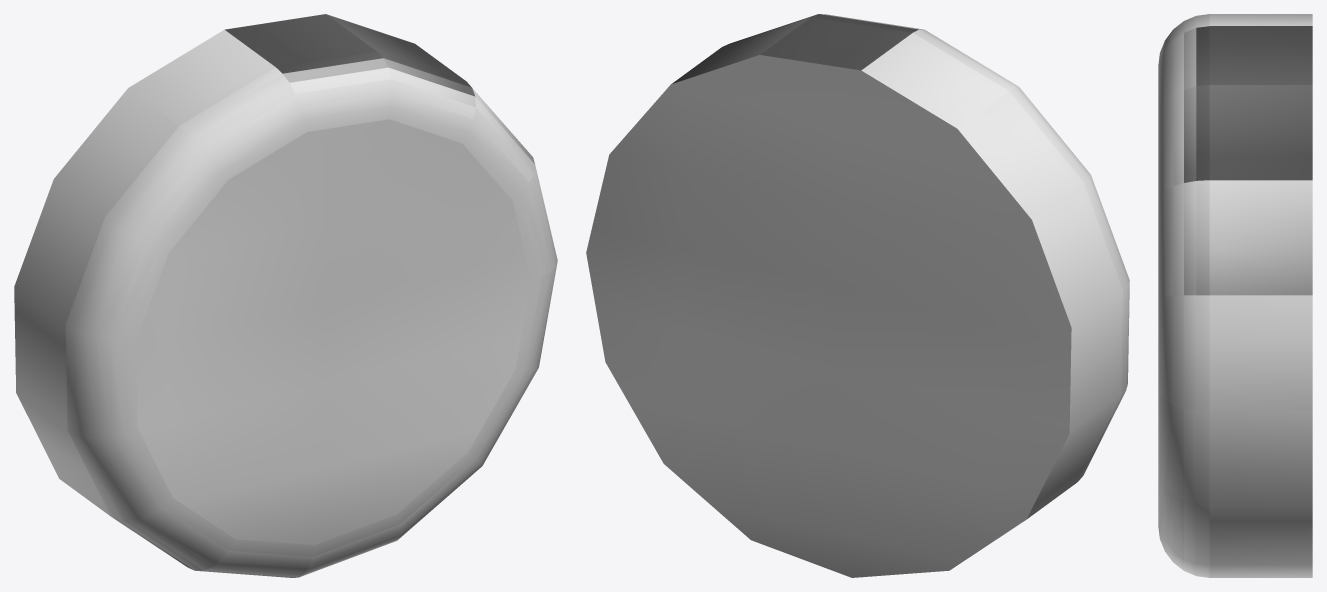
File: original-13.obj
3 views of the same model, side by side, from view 1: azimuth 30°, elevation 25°; view 2: azimuth 150°, elevation 25°; view 3: azimuth 270°, elevation 25° (orthographic).
Visible parts, largest first — view 1: mesh15/mesh15-geometry#mesh15-geometry; view 2: mesh15/mesh15-geometry#mesh15-geometry; view 3: mesh15/mesh15-geometry#mesh15-geometry.
Part boxes in pixels (x1,y1,x2,y2): mesh15/mesh15-geometry#mesh15-geometry: (14,14,557,577); mesh15/mesh15-geometry#mesh15-geometry: (586,14,1129,577); mesh15/mesh15-geometry#mesh15-geometry: (1158,14,1312,577).
Size of the model in its own units: 0.0287 by 0.0288 by 0.0079.
